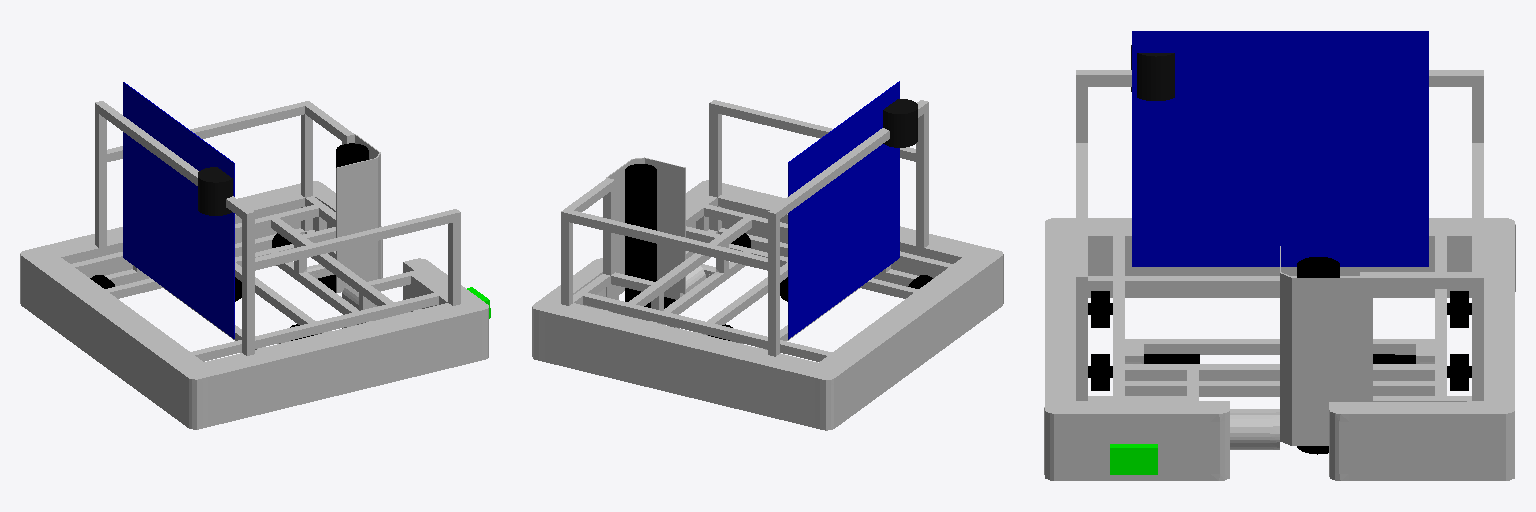
The robot description file, URDF, robot "hungry_toaster":
<robot name="hungry_toaster">

  <material name="green">
	<color rgba="0 1 0 1"/>
  </material>

  <material name="grey">
	<color rgba="0.1 0.1 0.1 1"/>
  </material>

  <link name="base_link">
    <visual>
      <origin rpy="0 0 1.57" xyz="0.2 0 0.15"/>
      <geometry>
        <mesh filename="package://hungry_toaster/meshes/hungry_toaster_meters.dae"/>
      </geometry>
    </visual>
  </link>

  <joint name="base_link_to_laser" type="fixed">
    <parent link="base_link"/>
    <child link="laser"/>
    <origin xyz="-0.3048 -0.254 0.6096" rpy="0 0 1.57"/>
  </joint>

  <link name="laser">
    <visual>
      <origin rpy="0 0 0" xyz="0 0 0"/>
      <geometry>
        <cylinder length="0.1016" radius="0.0508"/>
      </geometry>
	  <material name="grey"/>
    </visual>
  </link>
  
  <joint name="base_link_to_limelight" type="fixed">
    <parent link="base_link"/>
    <child link="limelight"/>
    <origin rpy="0 -0.1 0" xyz="0.5 -0.3 0.1"/>
  </joint>

  <link name="limelight">
    <visual>
      <origin xyz="0.0 0.0 0.0" rpy="0 0 0"/>
      <geometry>
        <box size="0.0254 0.09779 0.05715 "/>
      </geometry>
	  <material name="green"/>
    </visual>
  </link>
</robot>

--- Facts derived from the render (not from the file) ---
The picture shows the robot from 3 angles, left to right: view 1: azimuth 30°, elevation 25°; view 2: azimuth 150°, elevation 25°; view 3: azimuth 270°, elevation 25°; orthographic projection.
Robot: hungry_toaster — 3 links, 2 joints (2 fixed); root link base_link; default pose: every joint at zero.
Links seen in each view (by area): view 1: base_link, laser; view 2: base_link, laser; view 3: base_link, laser, limelight.
Link boxes in pixels (x1,y1,x2,y2): base_link: (20, 82, 488, 429); laser: (198, 167, 232, 215); base_link: (532, 81, 1003, 430); laser: (883, 99, 917, 147); base_link: (1044, 31, 1515, 480); laser: (1131, 45, 1174, 100); limelight: (1110, 444, 1157, 474).
Size in the robot's own frame: 1.03 by 0.9664 by 0.6863 metres.
Meshes: 1 distinct files referenced, 1 mesh visuals loaded (1 Collada DAE).